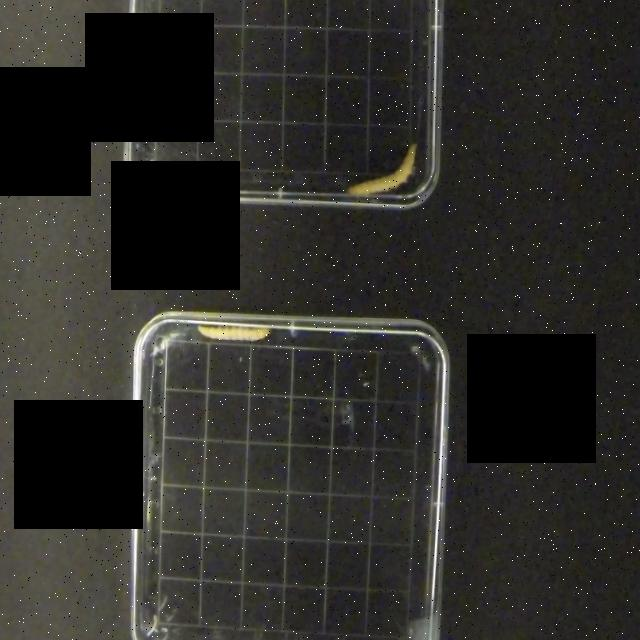larva: (343, 137, 428, 198), (190, 319, 276, 344)
